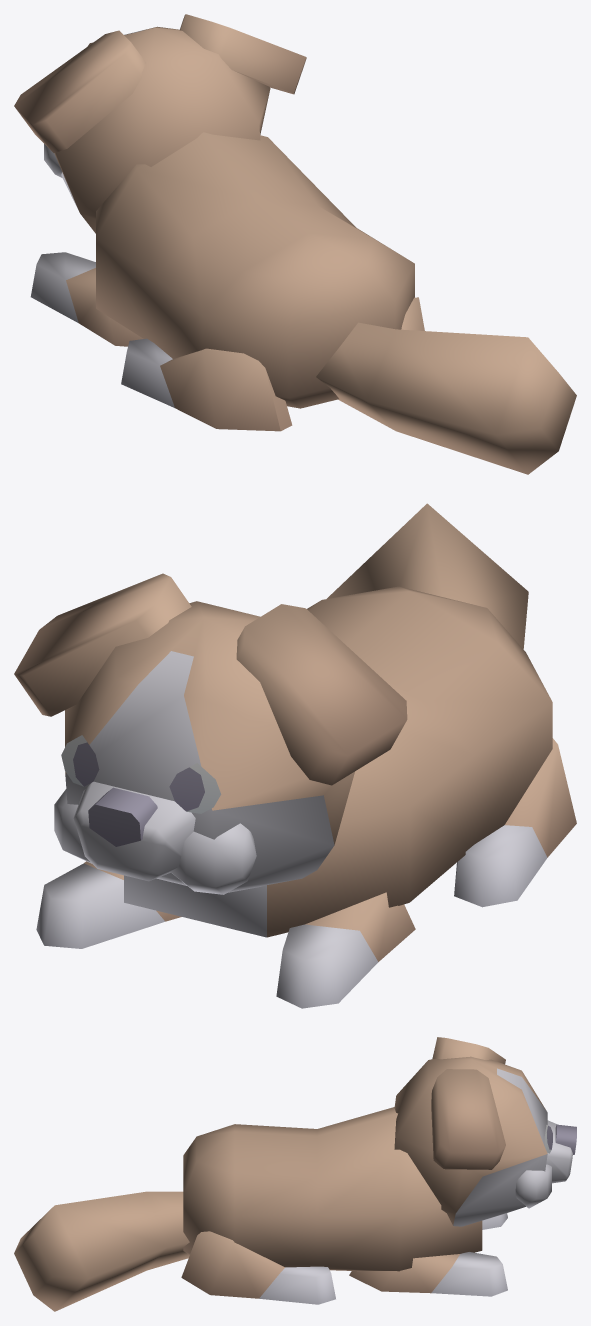
File: dog-small-loaf.glb
The picture shows the model from 3 angles, top to bottom: view 1: azimuth 30°, elevation 25°; view 2: azimuth 150°, elevation 25°; view 3: azimuth 270°, elevation 25°; orthographic projection. The views are drawn at different scales.
Parts seen in each view (by area): view 1: dog-small-loaf; view 2: dog-small-loaf; view 3: dog-small-loaf.
Boxes of the visible parts, <box> form: dog-small-loaf: <box>14,14,576,474</box>; dog-small-loaf: <box>14,503,576,1008</box>; dog-small-loaf: <box>14,1037,576,1311</box>.
Size of the model in its own units: 0.255 by 0.2345 by 0.5455.
